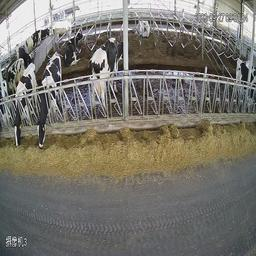cow: (37, 48, 63, 151), (91, 33, 123, 109), (12, 64, 34, 152), (24, 26, 52, 51), (65, 33, 85, 68), (5, 55, 25, 86), (49, 20, 73, 39), (15, 42, 32, 64), (137, 16, 153, 38)
